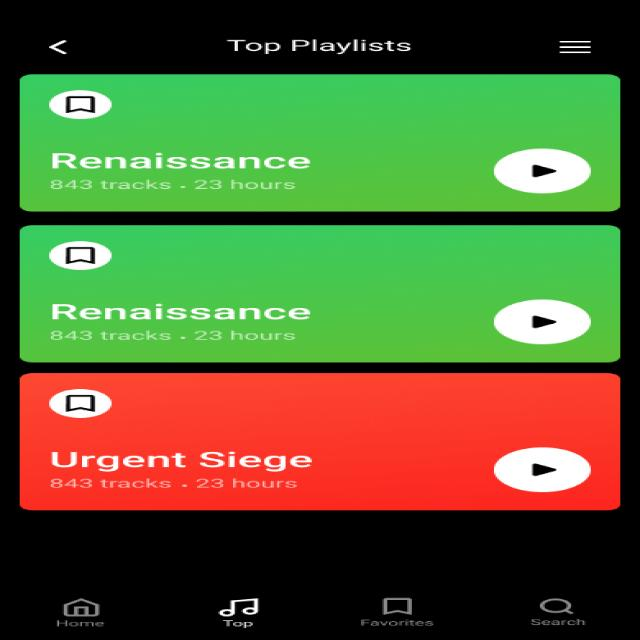icon button: (486, 439, 602, 501), (483, 298, 607, 350), (489, 143, 602, 198), (185, 589, 289, 639), (506, 587, 602, 640), (30, 589, 132, 638), (352, 588, 444, 640), (542, 20, 617, 63), (30, 21, 90, 67)
row: (10, 218, 640, 366), (14, 66, 630, 216), (10, 367, 640, 513)
text: (36, 435, 350, 495), (47, 138, 323, 204), (44, 292, 358, 348), (214, 27, 436, 59)
